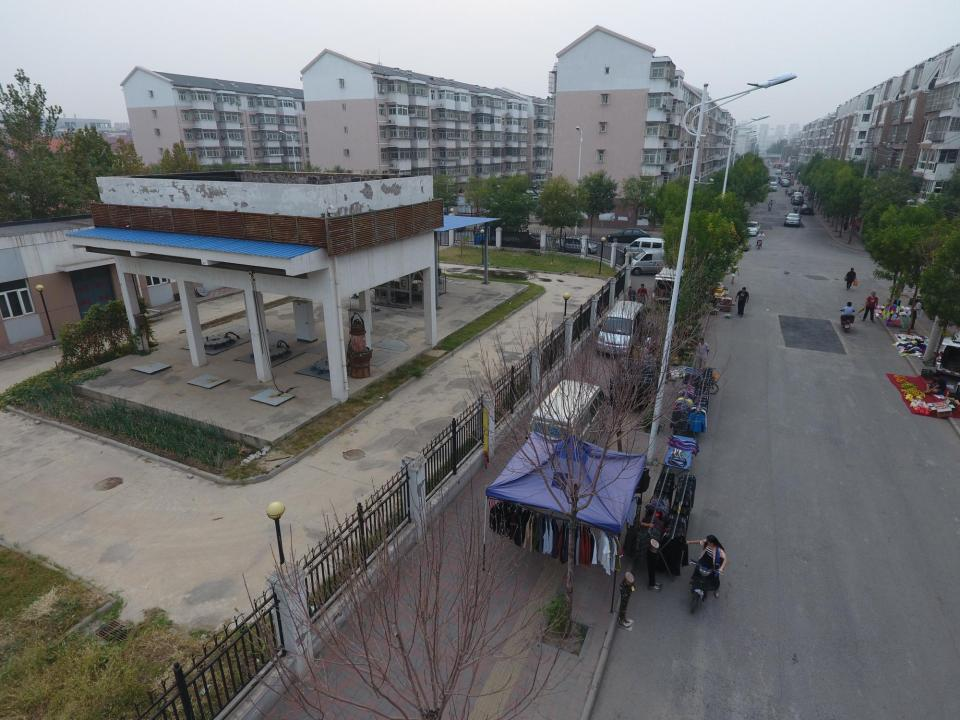car: (554, 236, 598, 254), (606, 228, 652, 243), (742, 221, 760, 236), (784, 212, 802, 227), (800, 204, 814, 214), (791, 196, 805, 206), (782, 180, 794, 187), (792, 192, 803, 199)
van: (524, 380, 608, 460), (595, 301, 645, 358), (626, 249, 681, 276), (653, 267, 688, 301), (623, 238, 665, 258), (769, 181, 779, 191)
